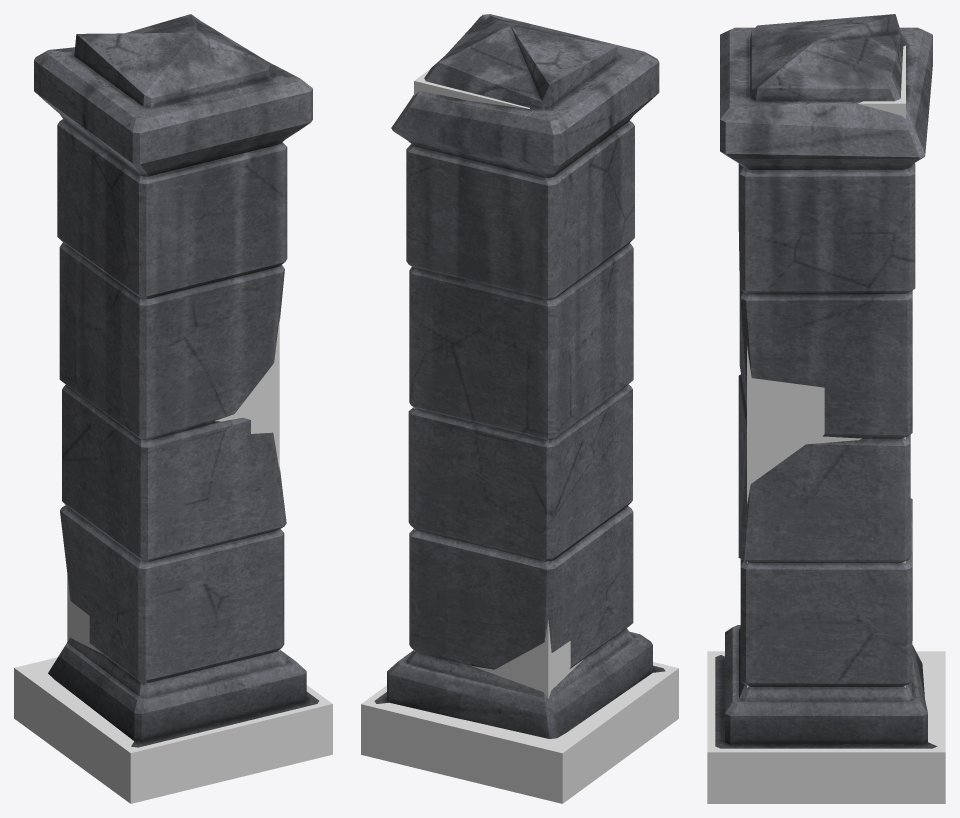
Rendered from pillar_square.webp.glb.
The picture shows the model from 3 angles, left to right: view 1: azimuth 30°, elevation 25°; view 2: azimuth 150°, elevation 25°; view 3: azimuth 270°, elevation 25°; orthographic projection. The views are drawn at different scales.
Parts seen in each view (by area): view 1: pillar_square_lod0, FRAC_0, FRAC_2, COL, FRAC_3, FRAC_4, FRAC_1; view 2: pillar_square_lod0, FRAC_0, COL, FRAC_2, FRAC_3, FRAC_1, FRAC_4; view 3: pillar_square_lod0, FRAC_4, FRAC_0, COL, FRAC_1, FRAC_2, FRAC_3.
Part boxes in pixels (x1,y1,x2,y2): pillar_square_lod0: [34, 18, 318, 747]; FRAC_0: [56, 111, 287, 358]; FRAC_2: [59, 287, 281, 531]; COL: [14, 318, 332, 803]; FRAC_3: [48, 455, 195, 741]; FRAC_4: [188, 484, 306, 701]; FRAC_1: [34, 14, 310, 165]; pillar_square_lod0: [374, 14, 665, 738]; FRAC_0: [406, 96, 655, 345]; COL: [361, 69, 678, 803]; FRAC_2: [408, 303, 632, 511]; FRAC_3: [459, 473, 652, 738]; FRAC_1: [391, 15, 659, 173]; FRAC_4: [387, 465, 471, 718]; pillar_square_lod0: [715, 19, 937, 748]; FRAC_4: [725, 484, 927, 744]; FRAC_0: [738, 163, 915, 344]; COL: [707, 45, 945, 803]; FRAC_1: [720, 14, 932, 191]; FRAC_2: [738, 331, 912, 518]; FRAC_3: [727, 462, 920, 678].
Bounding box in the file's own units: 1.5 × 5 × 1.5.
Materials: 1 (1 with a texture image).
